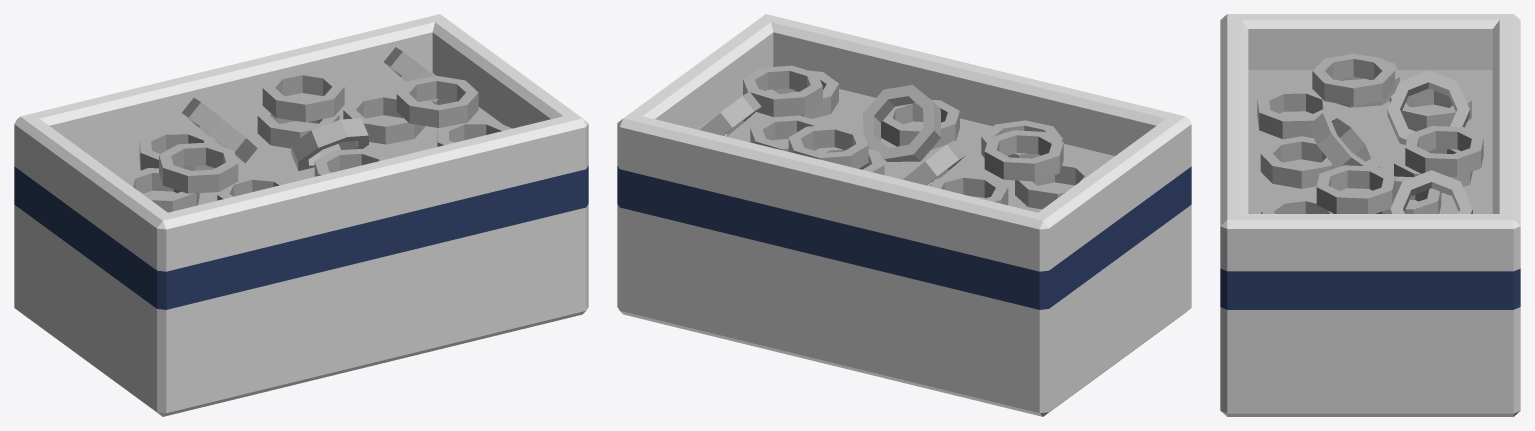
The model's file is Bolts.fbx.
3 renders of one model, left to right at view 1: azimuth 30°, elevation 25°; view 2: azimuth 150°, elevation 25°; view 3: azimuth 270°, elevation 25°, orthographic.
Visible parts, largest first — view 1: Bolts; view 2: Bolts; view 3: Bolts.
Boxes of the visible parts, x1,y1,x2,y2 form: Bolts: (14, 14, 588, 416); Bolts: (617, 14, 1191, 416); Bolts: (1220, 14, 1520, 416).
Size of the model in its own units: 16.83 by 7.73 by 10.09.
